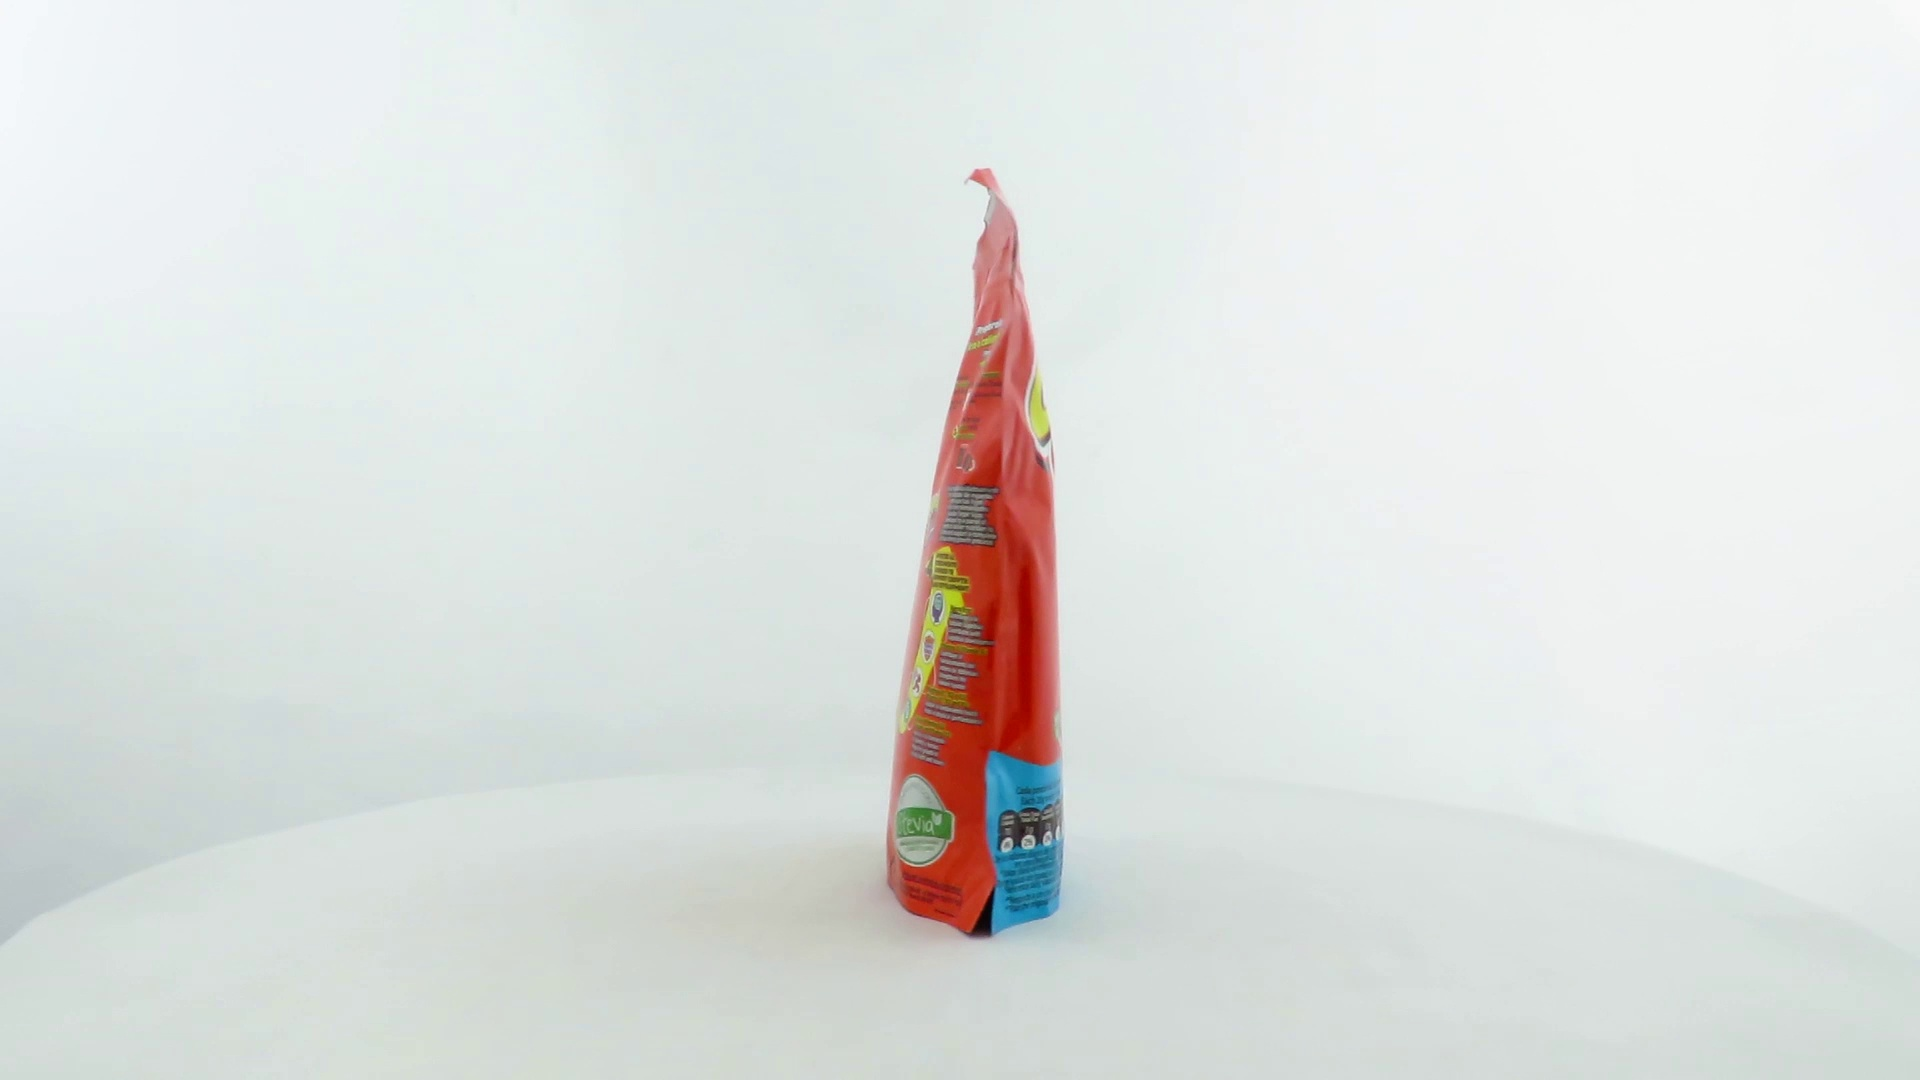COL0170104DYP20000: (881, 164, 1071, 945)
